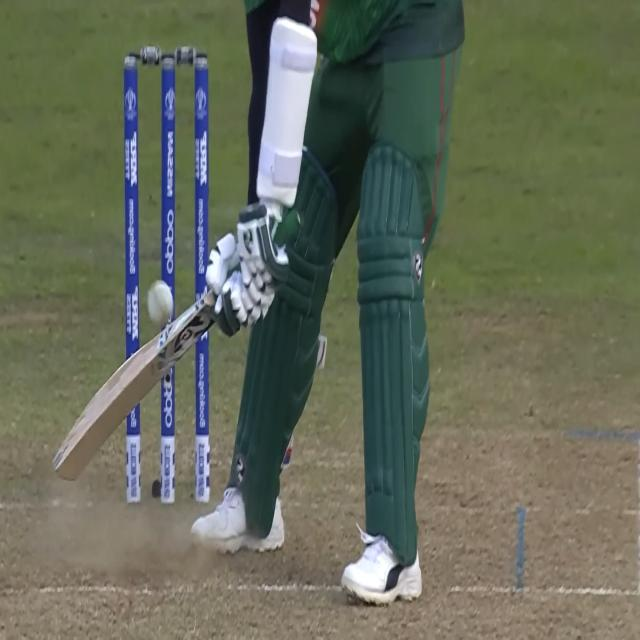ball: (143, 276, 178, 327)
